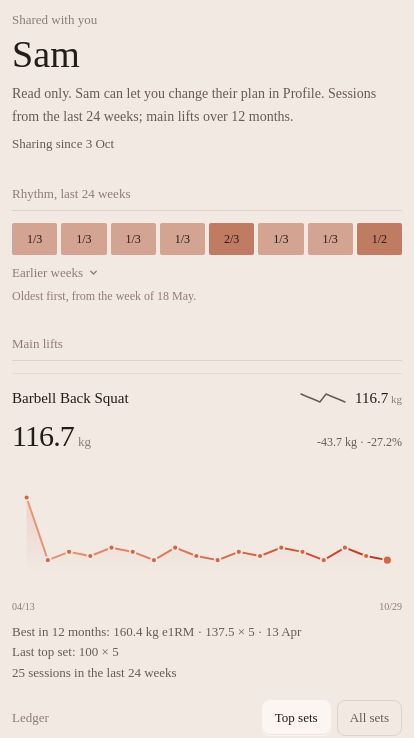
Test case: TrainerClientView › shows 24 rhythm cells, the oldest 16 behind the narrow disclosure
Expected: the list item "1/2" is shown, [357, 222, 402, 255]
Click the button "Earlier weeks": (56, 268) [12, 255, 99, 281]
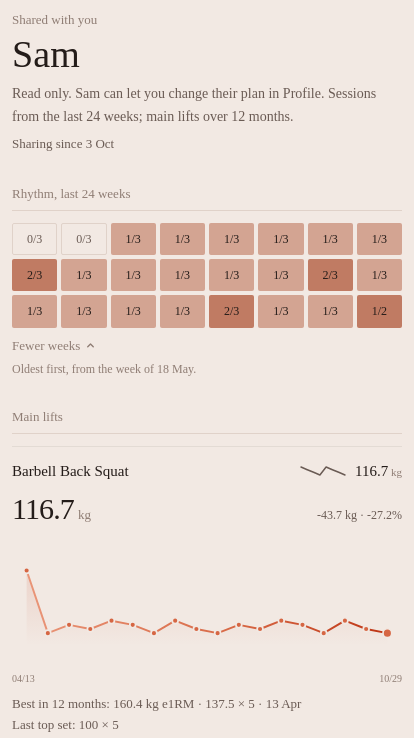
Result: the button "Fewer weeks" is expanded at [12, 328, 96, 354]
